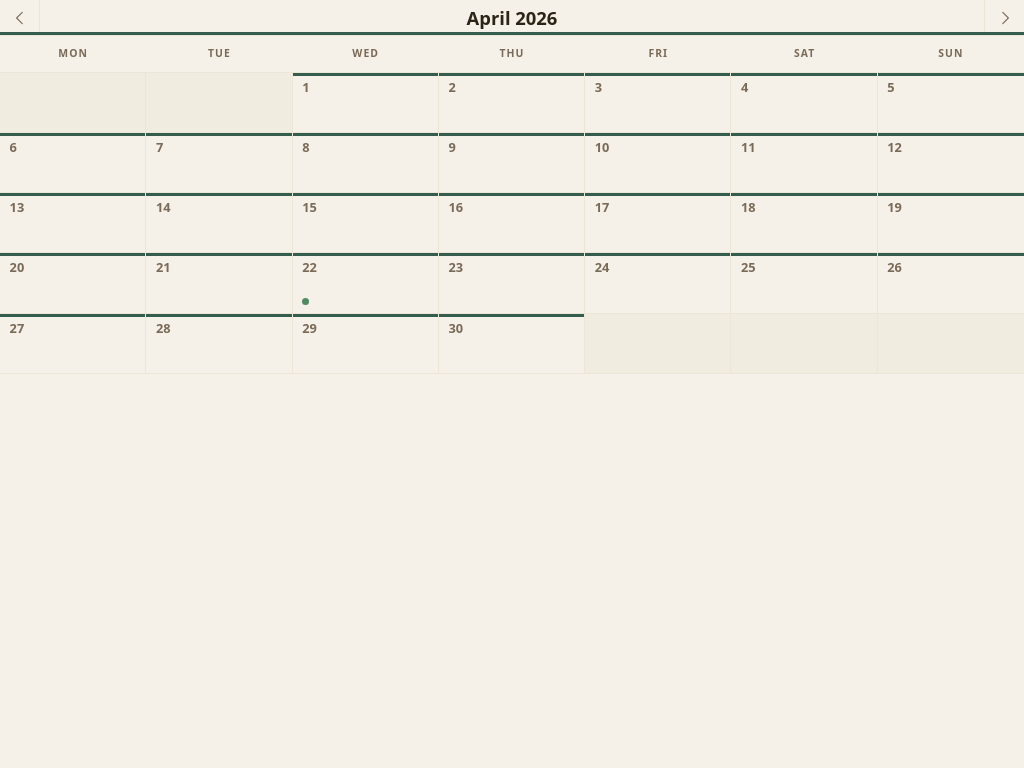
Scenario: profile-aware meal plan views › keeps disabled meal type chips visible in month popover when meals exist in that type
The width and height of the screenshot is (1024, 768).
Click the button "22".
click(366, 284)  # box [293,253,439,314]
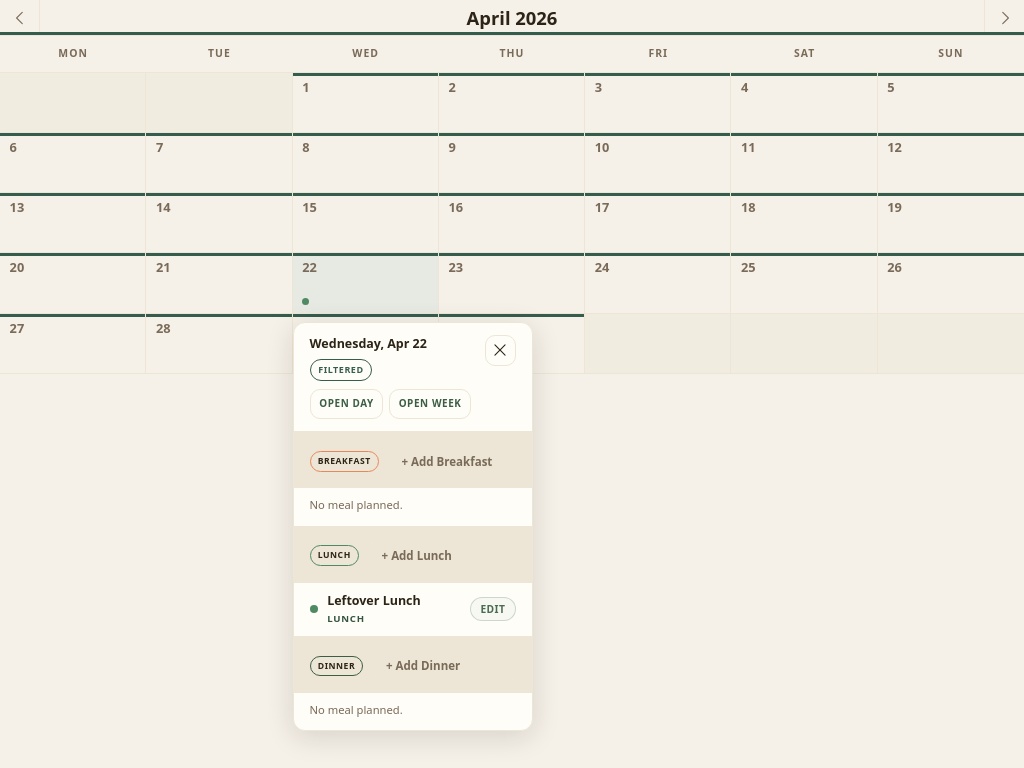
Now the 1st text "Lunch" is shown, box [310,546,359,566]
Now the text "Leftover Lunch" is shown, box [327,592,421,609]
